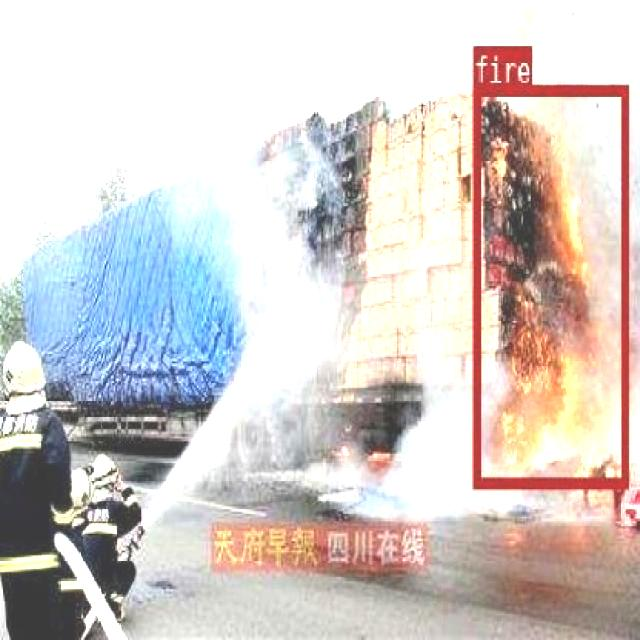fire: (471, 84, 627, 487)
